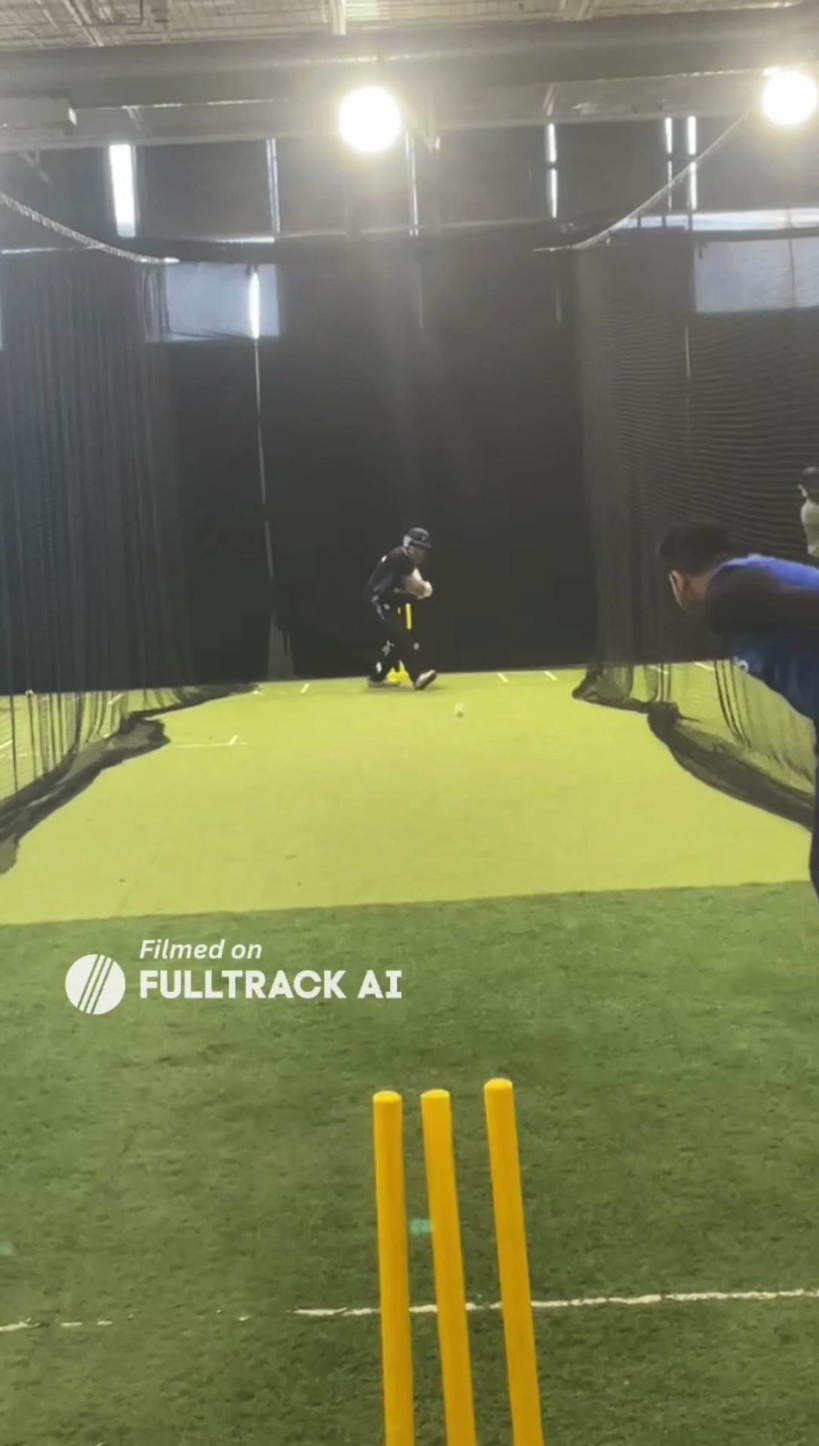ball: (451, 707, 468, 722)
